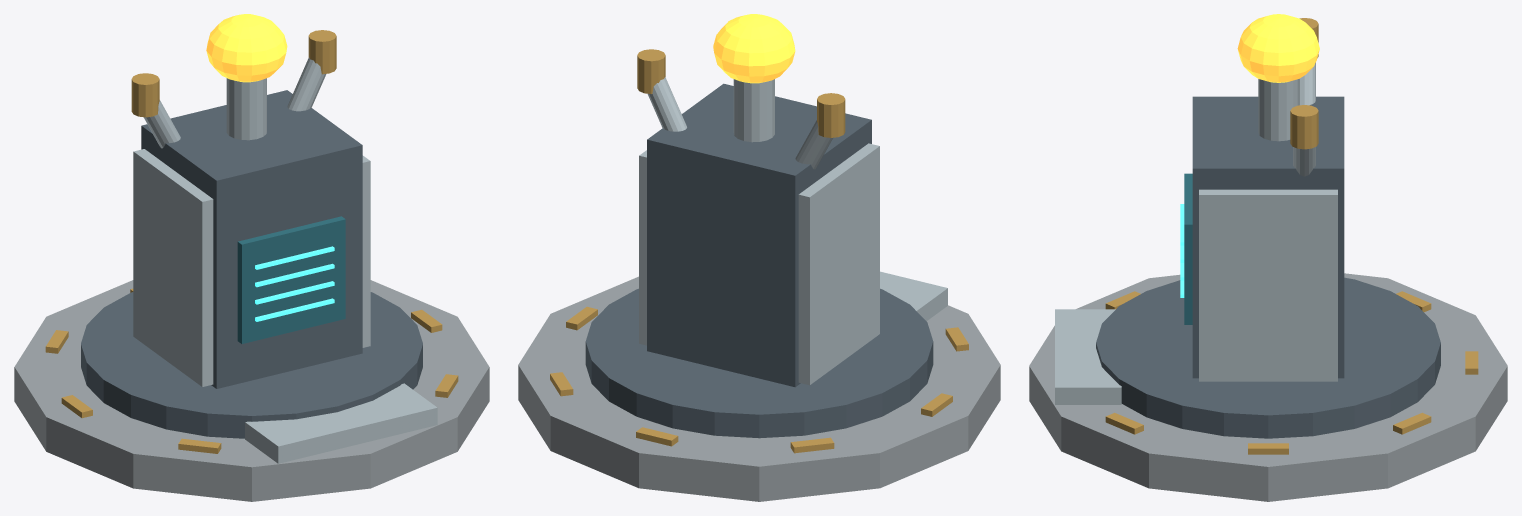
File: strategic-node.glb
3 views of the same model, side by side, from view 1: azimuth 30°, elevation 25°; view 2: azimuth 150°, elevation 25°; view 3: azimuth 270°, elevation 25° (orthographic).
Parts seen in each view (by area): view 1: neutral capture platform, neutral uplink cabinet, capture terminal footing, cabinet side armor, glowing status panel, access step, neutral amber capture beacon, beacon mast, cabinet side armor.001, uplink receive node, communication fork.001, uplink receive node.001 (+1 smaller); view 2: neutral uplink cabinet, neutral capture platform, capture terminal footing, cabinet side armor, neutral amber capture beacon, beacon mast, access step, cabinet side armor.001, uplink receive node, communication fork.001, uplink receive node.001, communication fork; view 3: neutral capture platform, capture terminal footing, cabinet side armor.001, neutral uplink cabinet, access step, neutral amber capture beacon, beacon mast, glowing status panel, uplink receive node.001, communication fork.001, communication fork.
Part boxes in pixels (left/top/right/bottom): neutral capture platform: left=14, top=280, right=489, bottom=501; neutral uplink cabinet: left=141, top=90, right=362, bottom=388; capture terminal footing: left=81, top=292, right=422, bottom=438; cabinet side armor: left=133, top=149, right=213, bottom=386; glowing status panel: left=237, top=216, right=345, bottom=343; access step: left=245, top=383, right=437, bottom=463; neutral amber capture beacon: left=206, top=14, right=287, bottom=82; beacon mast: left=226, top=78, right=266, bottom=140; cabinet side armor.001: left=362, top=155, right=370, bottom=347; uplink receive node: left=131, top=73, right=159, bottom=117; communication fork.001: left=287, top=57, right=326, bottom=111; uplink receive node.001: left=308, top=30, right=336, bottom=74; neutral uplink cabinet: left=647, top=83, right=871, bottom=387; neutral capture platform: left=518, top=276, right=1000, bottom=501; capture terminal footing: left=585, top=288, right=933, bottom=438; cabinet side armor: left=798, top=143, right=879, bottom=385; neutral amber capture beacon: left=713, top=14, right=795, bottom=83; beacon mast: left=733, top=79, right=774, bottom=142; access step: left=880, top=271, right=947, bottom=321; cabinet side armor.001: left=639, top=150, right=646, bottom=345; uplink receive node: left=817, top=93, right=845, bottom=137; communication fork.001: left=647, top=77, right=686, bottom=131; uplink receive node.001: left=637, top=49, right=665, bottom=93; communication fork: left=795, top=120, right=832, bottom=169; neutral capture platform: left=1029, top=273, right=1507, bottom=501; capture terminal footing: left=1096, top=277, right=1440, bottom=438; cabinet side armor.001: left=1199, top=189, right=1337, bottom=381; neutral uplink cabinet: left=1192, top=96, right=1344, bottom=378; access step: left=1055, top=309, right=1121, bottom=404; neutral amber capture beacon: left=1237, top=14, right=1319, bottom=82; beacon mast: left=1258, top=79, right=1299, bottom=141; glowing status panel: left=1184, top=173, right=1192, bottom=324; uplink receive node.001: left=1290, top=105, right=1318, bottom=149; communication fork.001: left=1293, top=147, right=1315, bottom=176; communication fork: left=1299, top=62, right=1315, bottom=105.
Size of the model in its own units: 1.86 by 1.64 by 1.86.
